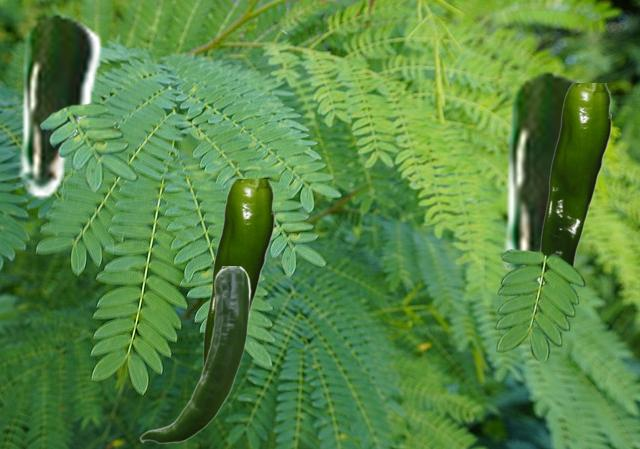green_chili: (497, 69, 598, 279), (139, 266, 250, 443), (14, 12, 102, 198), (202, 179, 273, 367), (539, 83, 610, 266)
